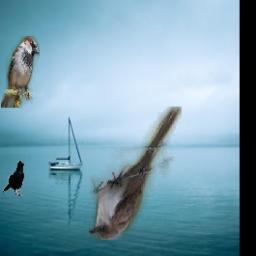Crow: (3, 161, 26, 197)
Cuckoo: (89, 108, 182, 241)
Sparrow: (1, 36, 40, 108)
